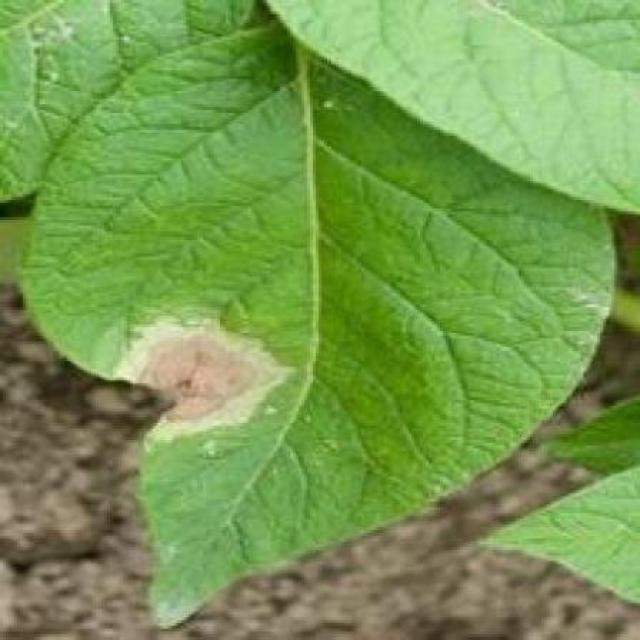Late Blight: (14, 0, 622, 636)
